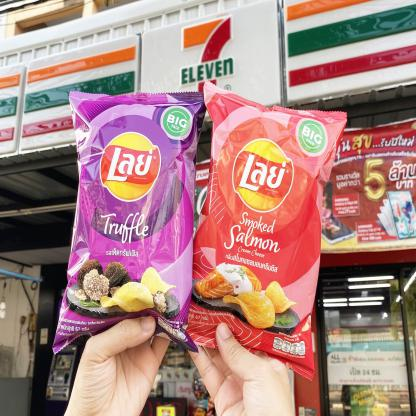potatochip: (181, 74, 350, 385), (49, 84, 213, 357)
